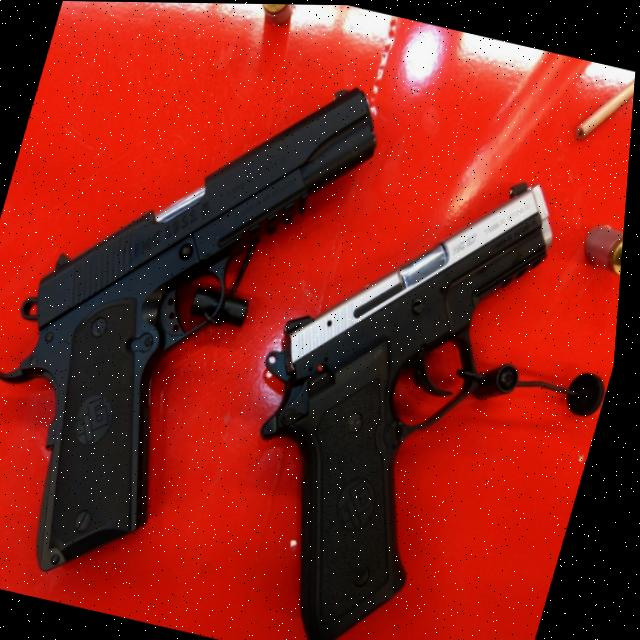pistol: (0, 24, 398, 617), (195, 128, 575, 640)
